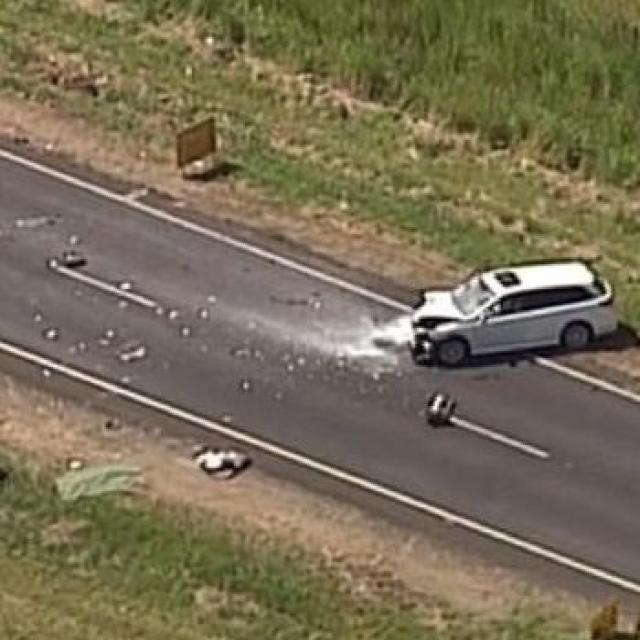traffic_incident: (294, 198, 622, 408)
